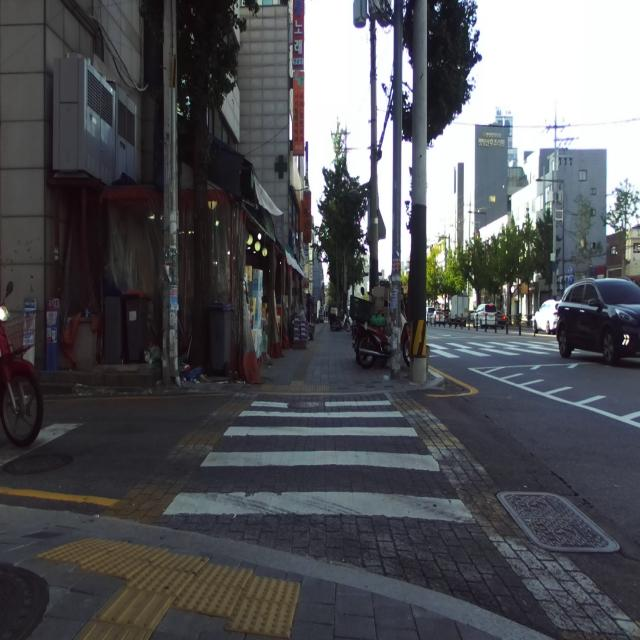횡단보도: (162, 401, 475, 524), (430, 336, 558, 360)
